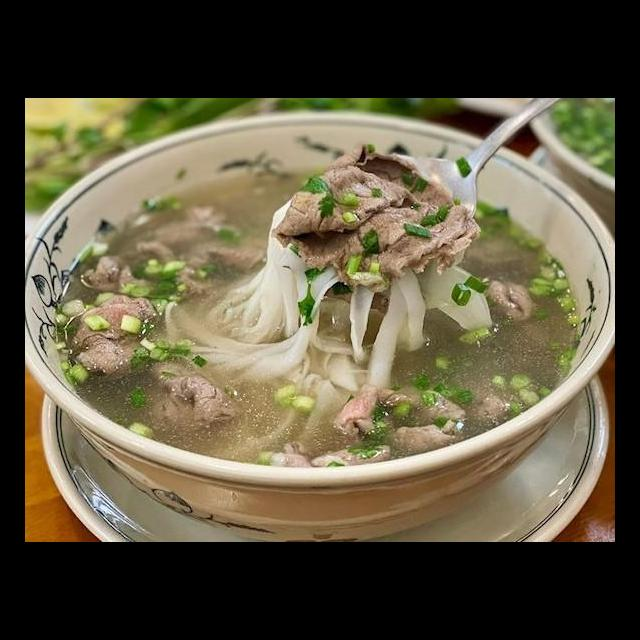banh pho: (157, 235, 434, 444)
pho bo: (52, 118, 588, 542)
thit bo: (317, 139, 484, 297), (268, 152, 433, 275), (65, 287, 177, 385), (331, 382, 471, 454), (137, 355, 248, 440), (79, 235, 181, 301), (472, 267, 541, 333)
